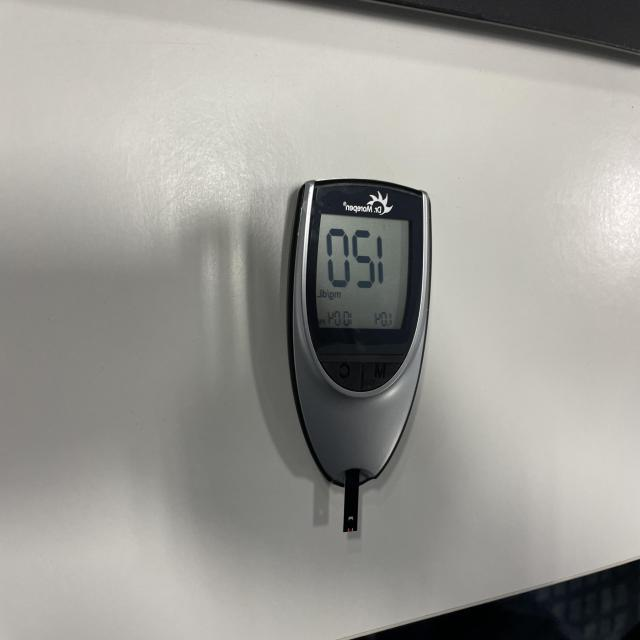gluco: (286, 181, 432, 537)
